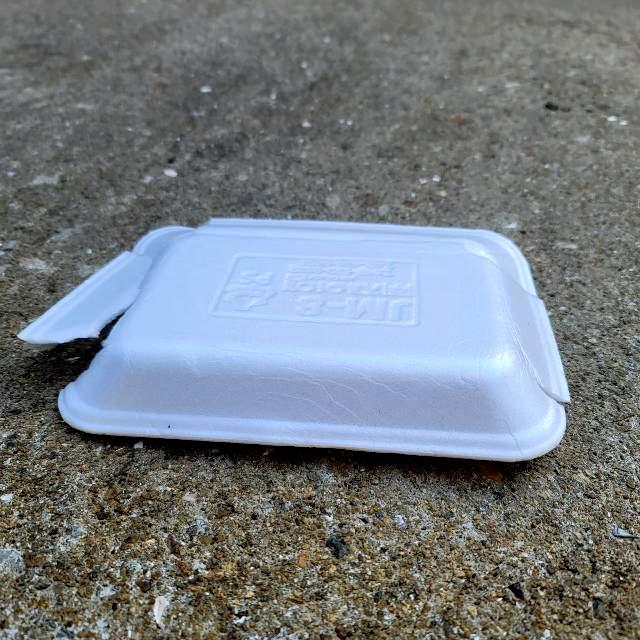Styrofoam: (16, 216, 572, 464), (17, 218, 571, 462)
